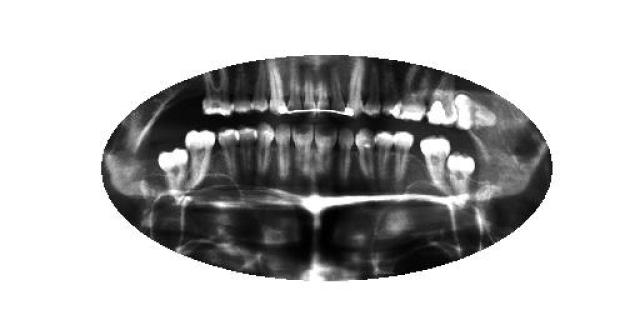Fillings: (427, 74, 458, 128)
Restorations: (453, 91, 498, 131)
